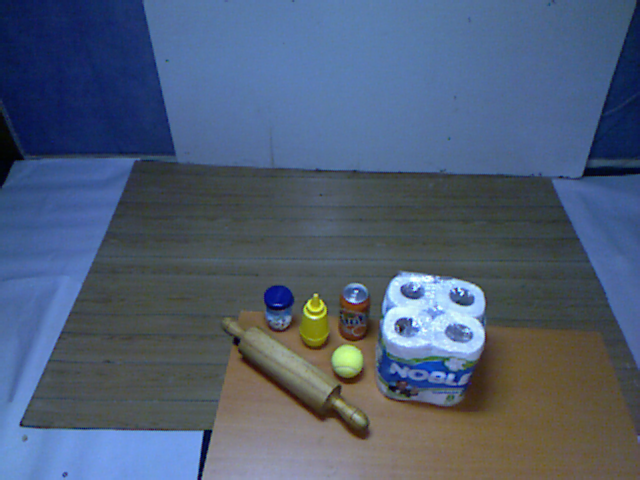confort: (371, 269, 494, 411)
crema: (260, 284, 298, 335)
lata: (336, 277, 373, 343)
mostaza: (295, 290, 334, 352)
pelota: (327, 337, 368, 380)
uslero: (212, 310, 377, 438)
